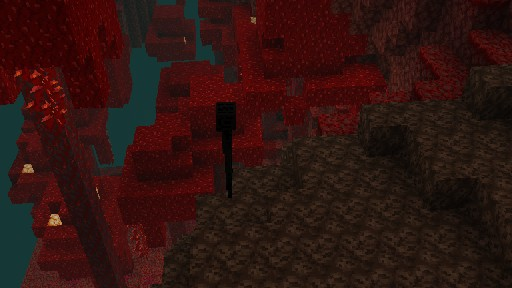enderman: (215, 101, 235, 199)
